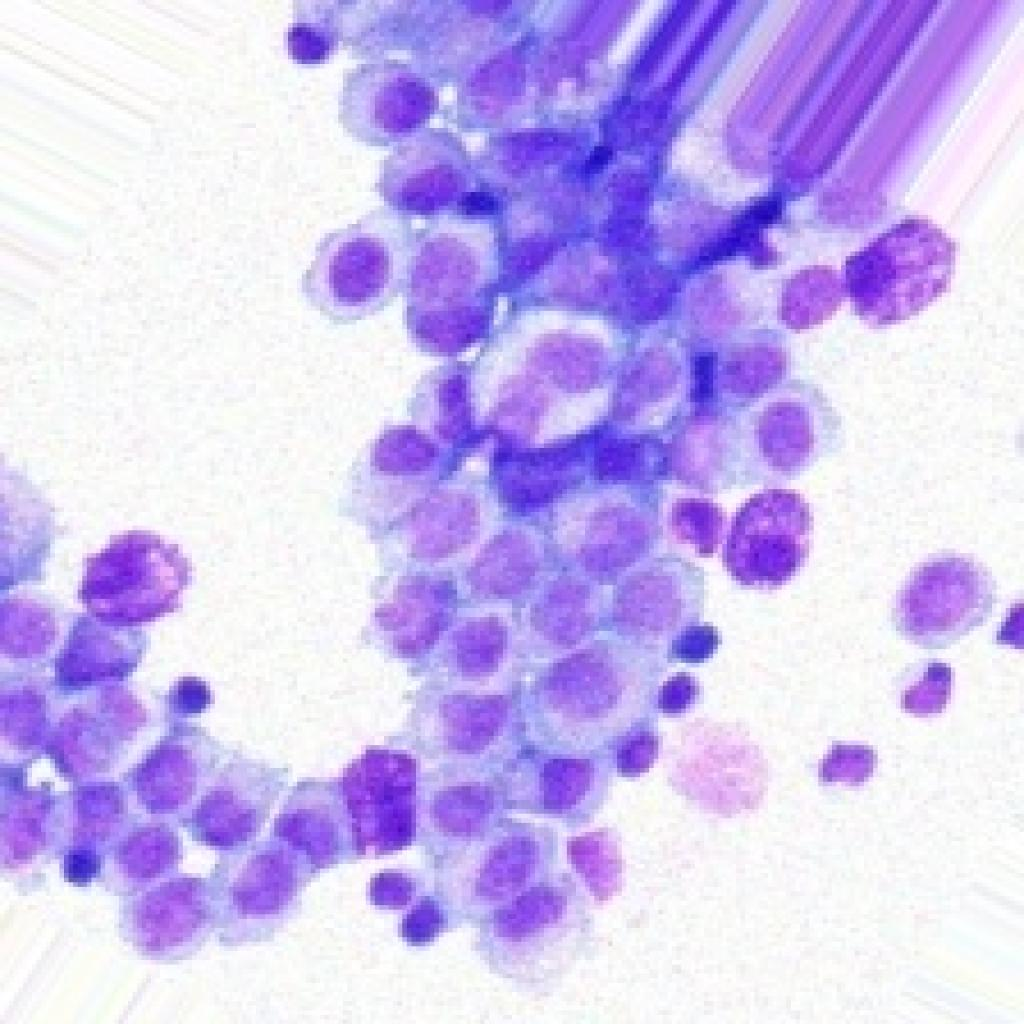Amoeba: (0, 0, 1006, 974)
